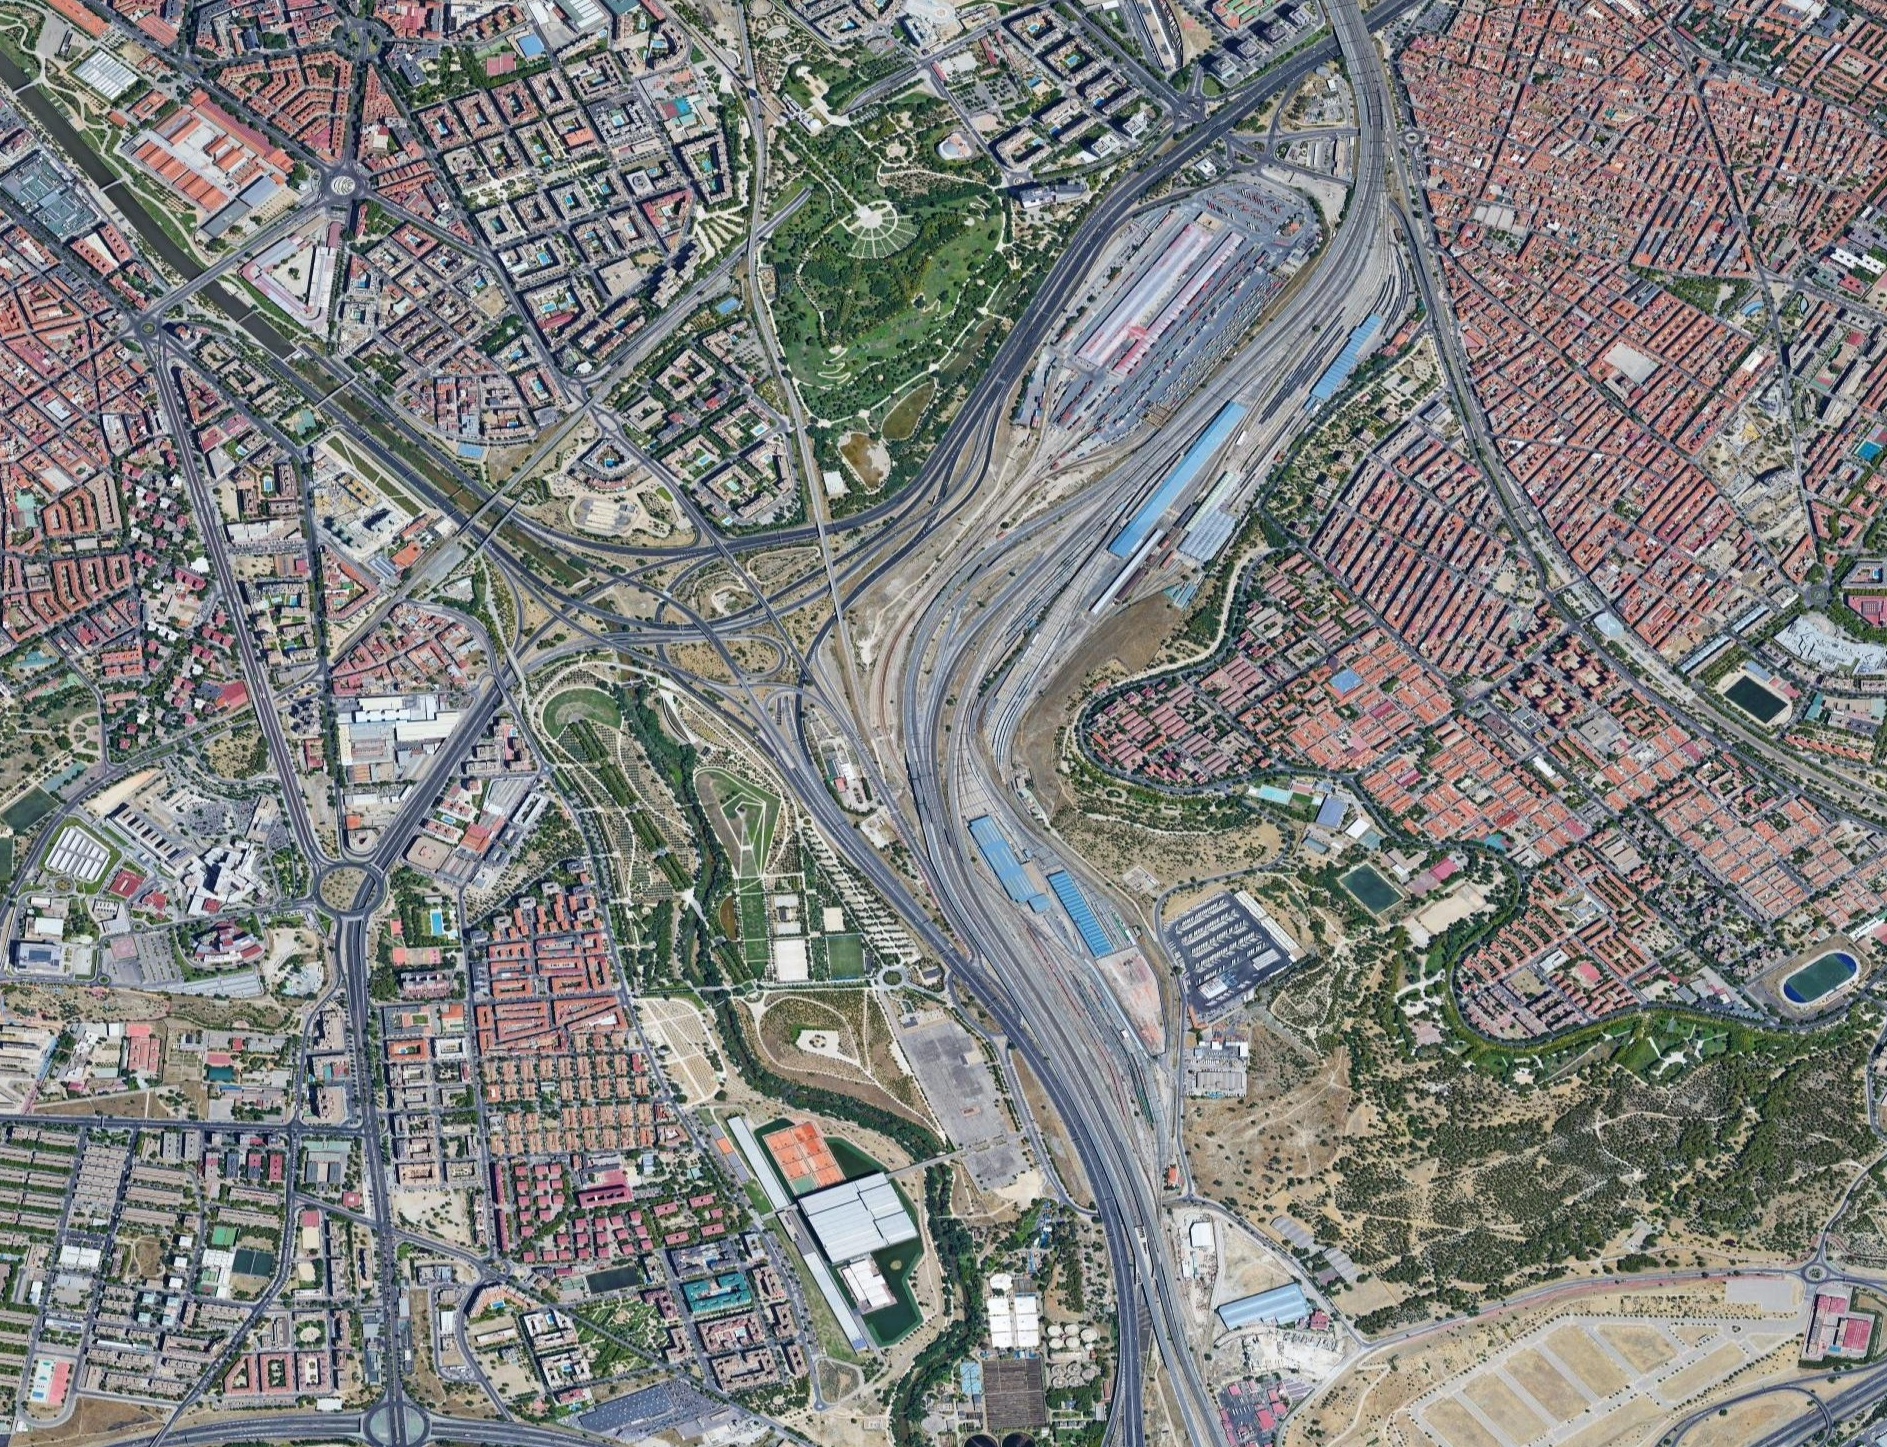motorway: (635, 622, 1325, 1447), (8, 59, 627, 616), (269, 651, 520, 1447), (627, 369, 1004, 622), (890, 196, 1115, 397), (1077, 2, 1302, 201), (1285, 2, 1462, 192)
train_station: (1000, 149, 1311, 508)
